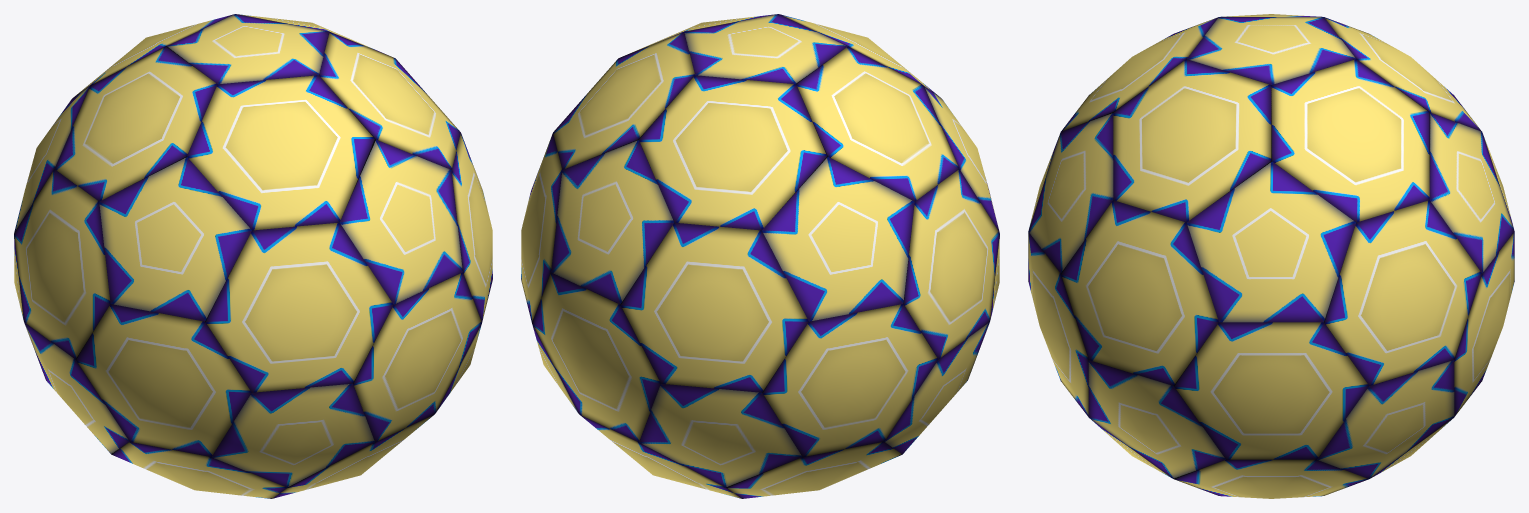
The model's file is Ball2.FBX.
3 views of the same model, side by side, from view 1: azimuth 30°, elevation 25°; view 2: azimuth 150°, elevation 25°; view 3: azimuth 270°, elevation 25° (orthographic).
Parts seen in each view (by area): view 1: Ball2; view 2: Ball2; view 3: Ball2.
Boxes of the visible parts, box(x1,y1,x2,y2) form: Ball2: box(14, 14, 492, 498); Ball2: box(521, 14, 999, 498); Ball2: box(1028, 14, 1514, 498).
Bounding box in the file's own units: 47.91 × 48.62 × 47.79.
